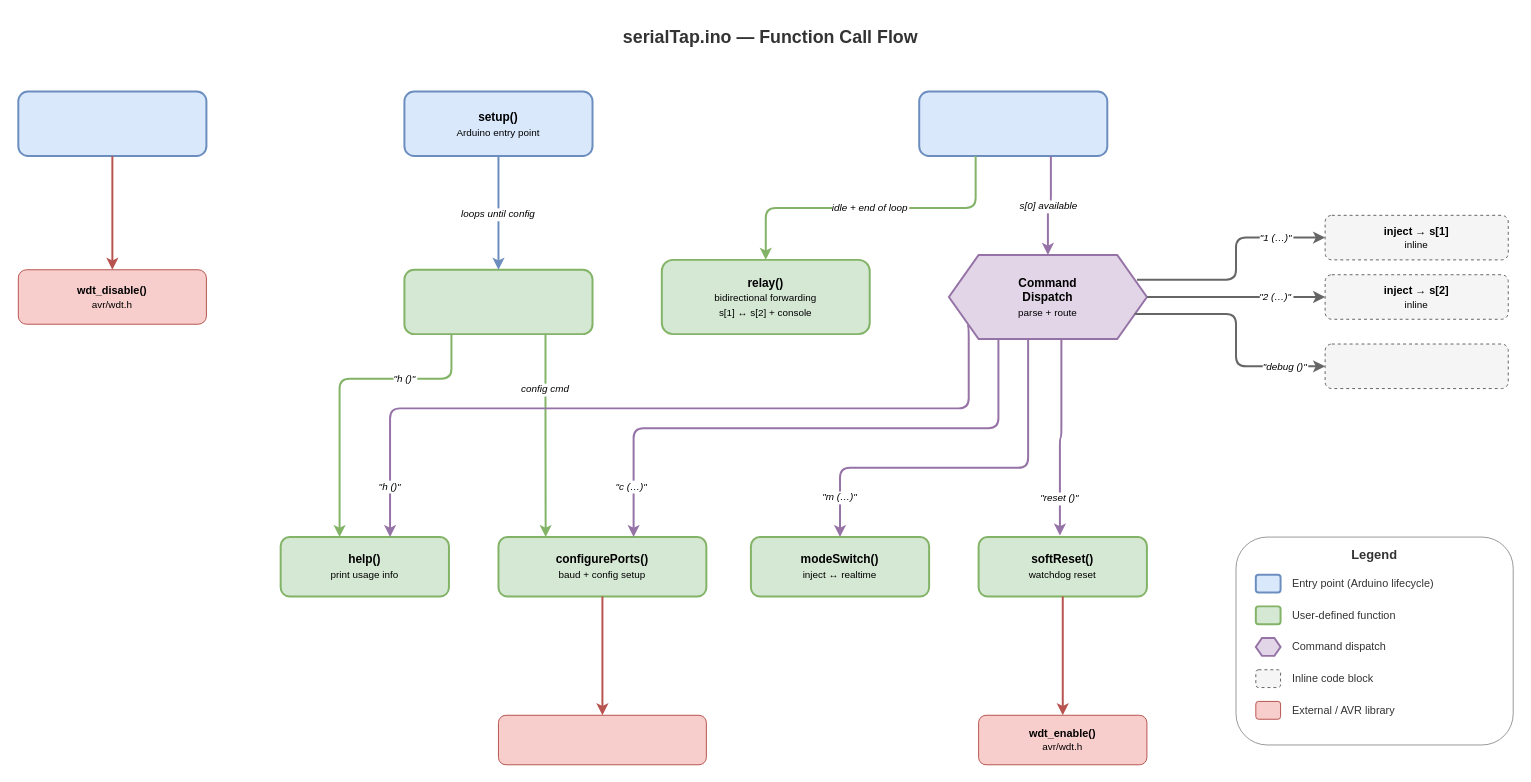
Image size: 1531x782. Some labels were removed from this diagram. The centre of each missing label's shape, as x and y in pixels:
debug toggle inline: [1416,366]
loop() Arduino main loop: [1013,123]
s[n]->begin() HardwareSerial: [601,739]
setupTrap() blocking config loop: [498,301]
wdt_init() .init3 pre-boot: [112,123]
